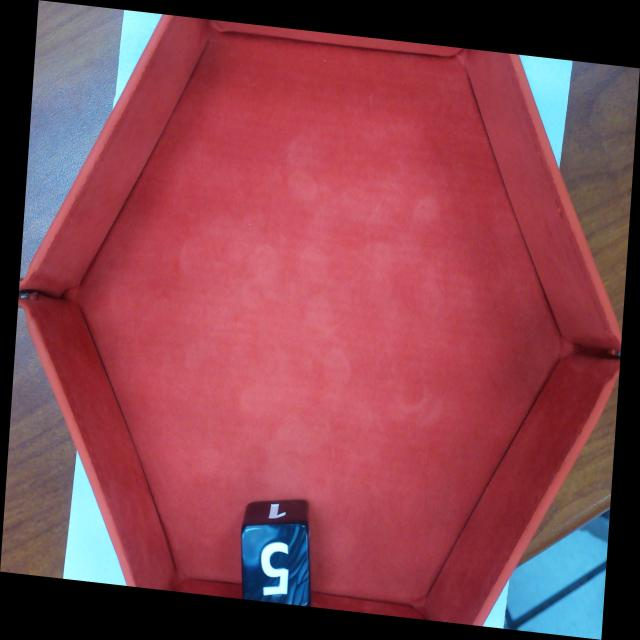dice: (242, 525, 311, 603)
